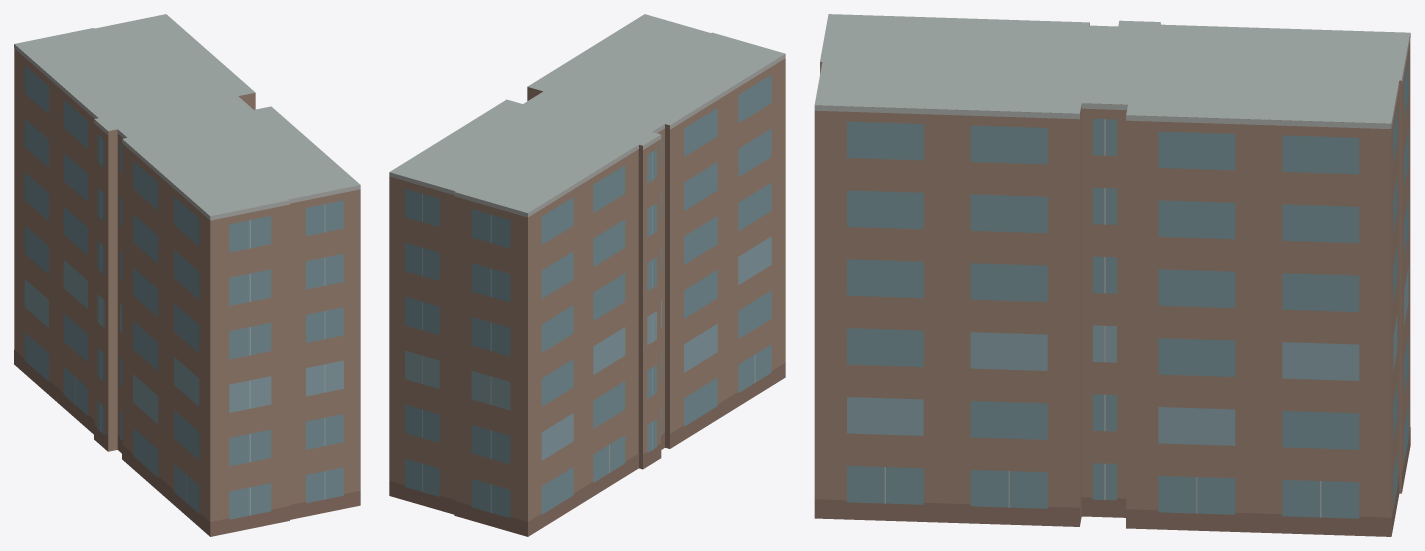
File: survey-upis-32660919.glb
3 renders of one model, left to right at view 1: azimuth 30°, elevation 25°; view 2: azimuth 150°, elevation 25°; view 3: azimuth 270°, elevation 25°, orthographic. The views are drawn at different scales.
Visible parts, largest first — view 1: survey-upis-32660919.tmp; view 2: survey-upis-32660919.tmp; view 3: survey-upis-32660919.tmp.
Boxes of the visible parts, left/top/right/bottom form: survey-upis-32660919.tmp: left=14, top=14, right=360, bottom=536; survey-upis-32660919.tmp: left=389, top=14, right=785, bottom=536; survey-upis-32660919.tmp: left=814, top=14, right=1410, bottom=536.
Size of the model in its own units: 10.39 by 18.25 by 23.86.
